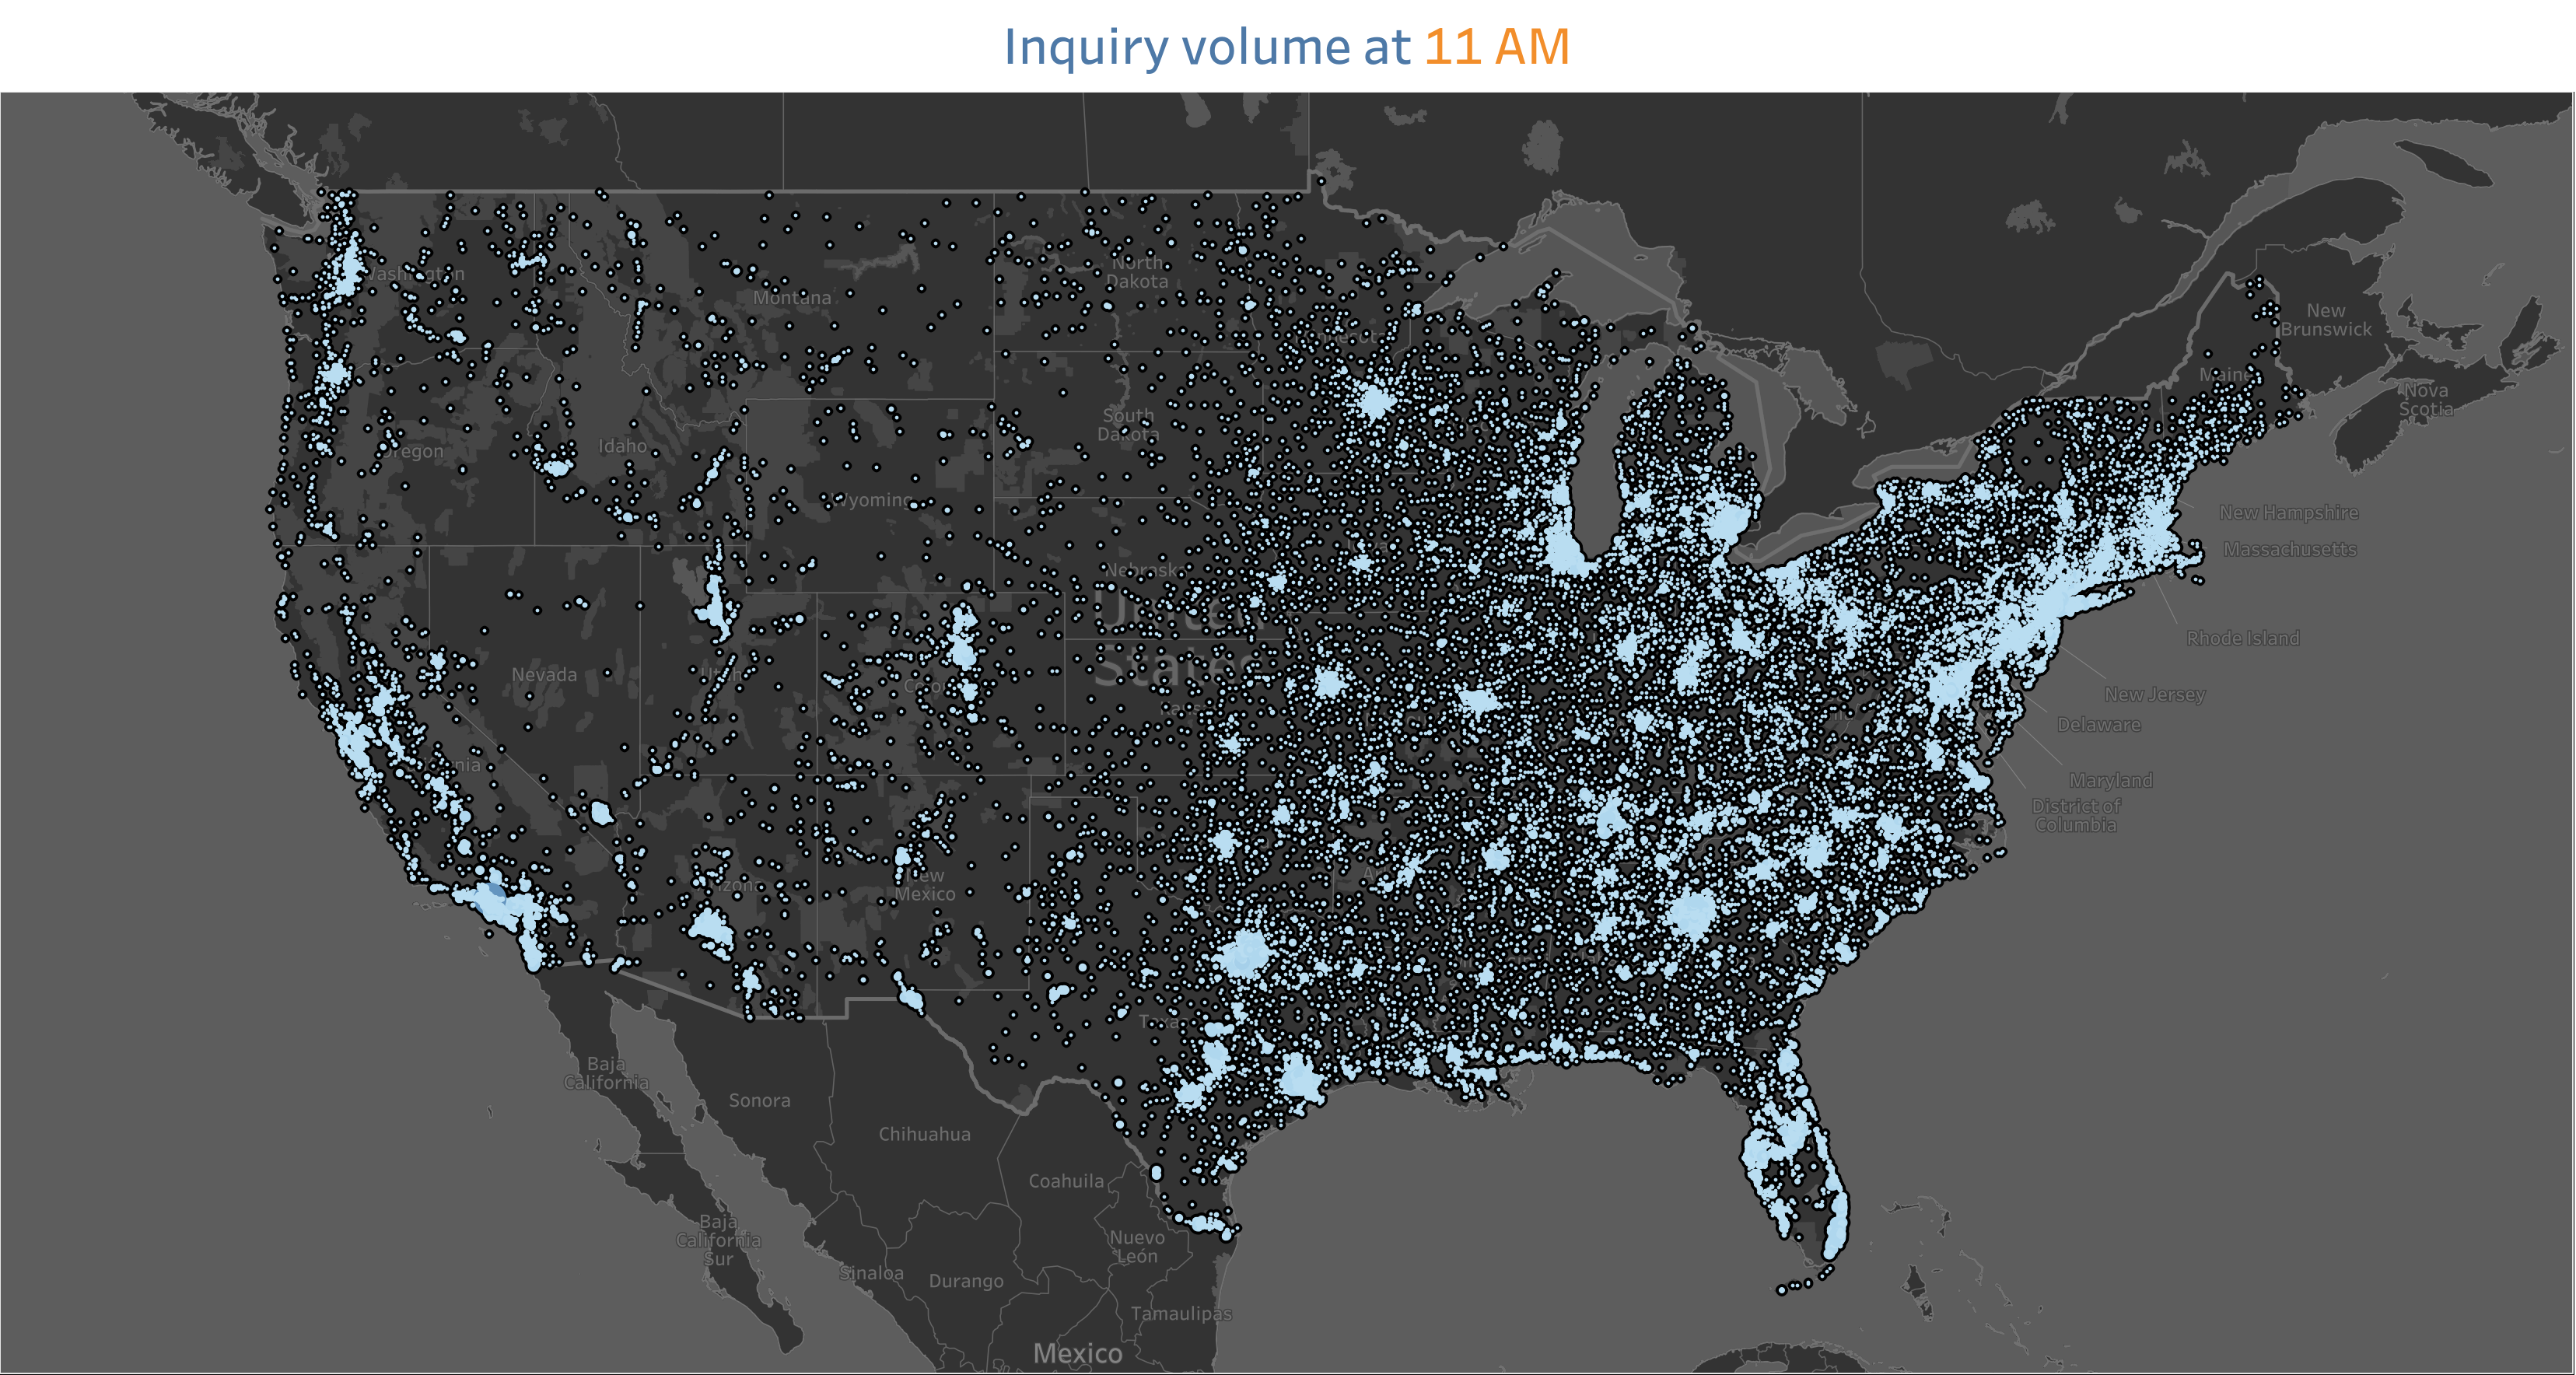

Layout of this report page (visuals, bound fields, positions):
{"tool":"tableau","page":{"name":"Dashboard 1","canvas":[1000,1000],"units":"permille","ordinal":0},"visuals":[{"type":"worksheet","title":"Sheet 1","mark":"Automatic","box":[4.7,8.8,990.6,982.3]},{"type":"currpage","title":"Sheet 1","box":[883,30.9,87.8,105]}]}

Visuals, with their boxes on the dashboard's canvas, which has no fixed pixel size, in thousandths of its width and height (x1, y1, x2, y2). These are canvas units, not pixel positions in the 2576x1375 screenshot, which may show the page scaled, cropped or inside an application window:
"Sheet 1" worksheet: {"left": 5, "top": 9, "right": 995, "bottom": 991}
"Sheet 1" currpage: {"left": 883, "top": 31, "right": 971, "bottom": 136}
